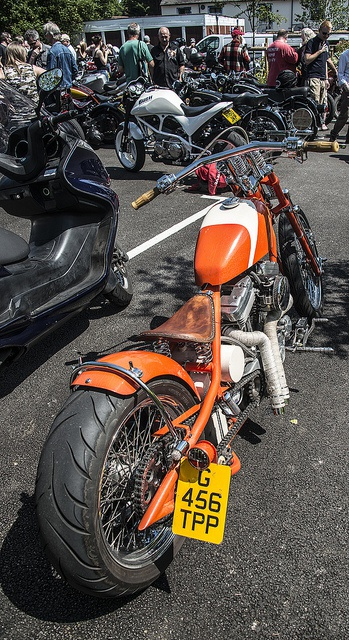non-vehicle: (34, 108, 341, 595), (1, 103, 133, 353), (113, 73, 244, 171), (212, 63, 325, 132), (189, 87, 288, 141)
